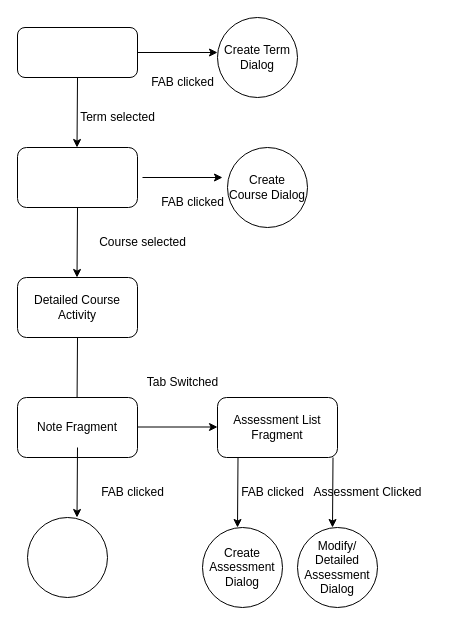
This 450x625 diagram has some shape labels left out. Each missing label, with the centre of its shape:
"Create Note Dialog" belongs at point (67, 557).
"Detailed Term Activity List of Courses" belongs at point (77, 177).
"Main Activity List of Terms" belongs at point (77, 52).
